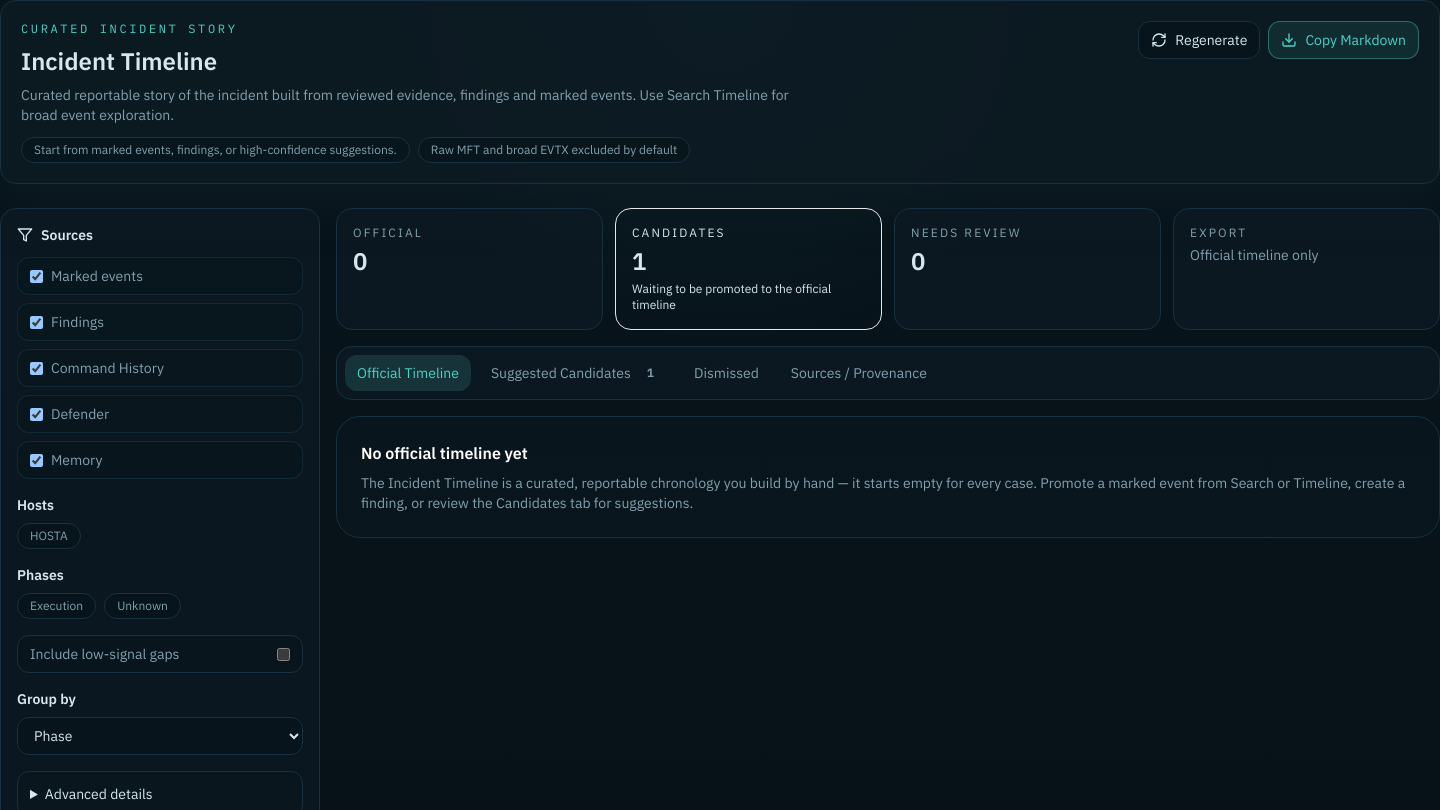
Test case: IncidentTimelinePage › surfaces pending candidates with a badge and a shortcut into the tab
Expected: the 2nd text "1" is shown, [647,365,654,380]
Step 1. Click the button "Candidates 1 Waiting to be promoted to the official timeline" → (679, 232), box [615,208,882,330]
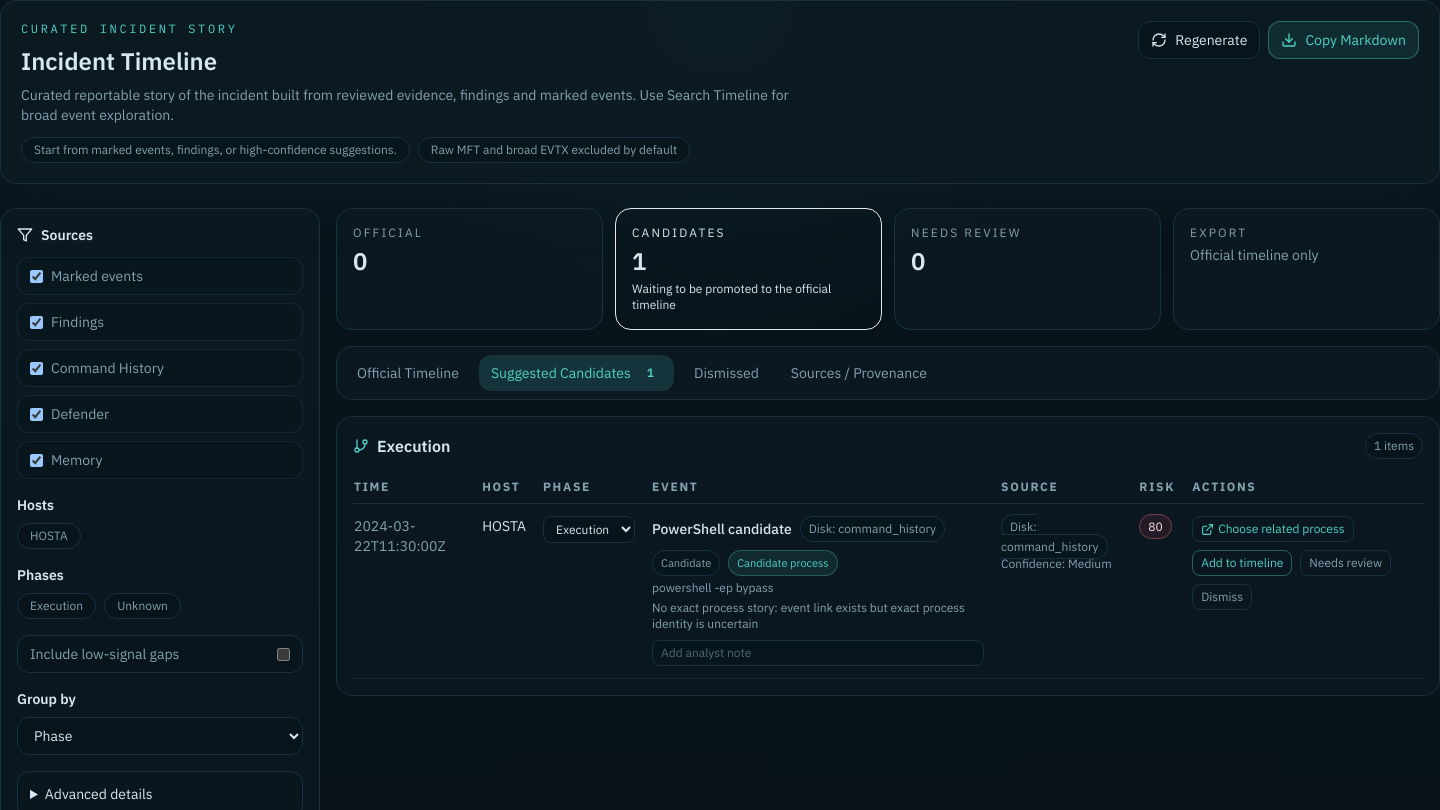
Result: the text "PowerShell candidate" is shown at [652,519,792,539]
